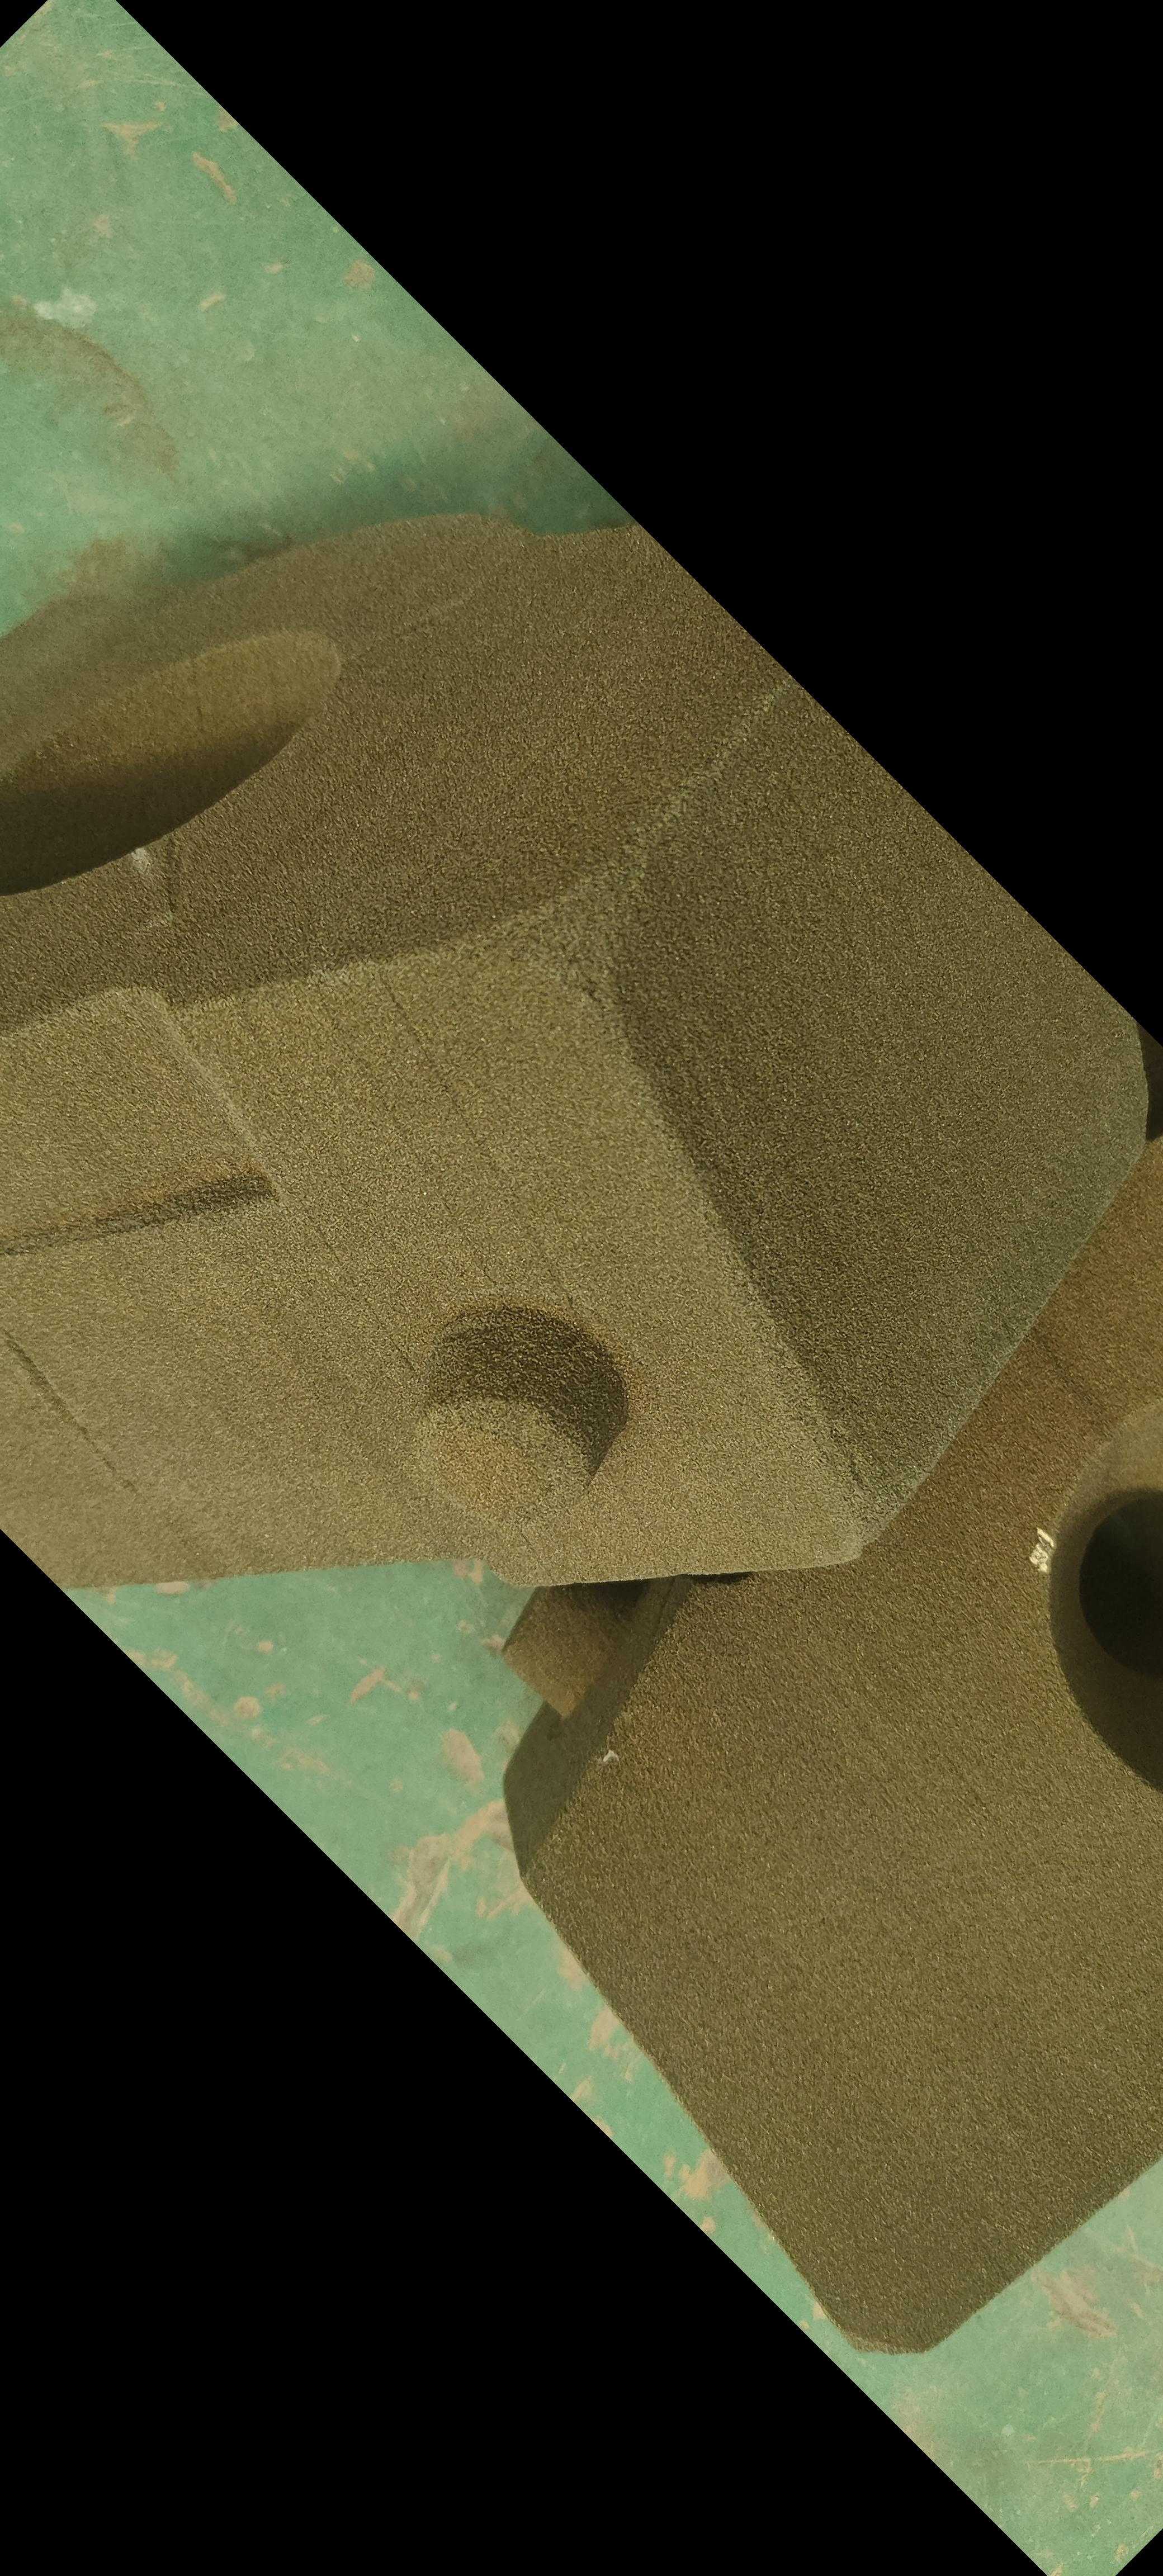pouring hole: (5, 628, 348, 897), (1048, 1396, 1163, 1796)
